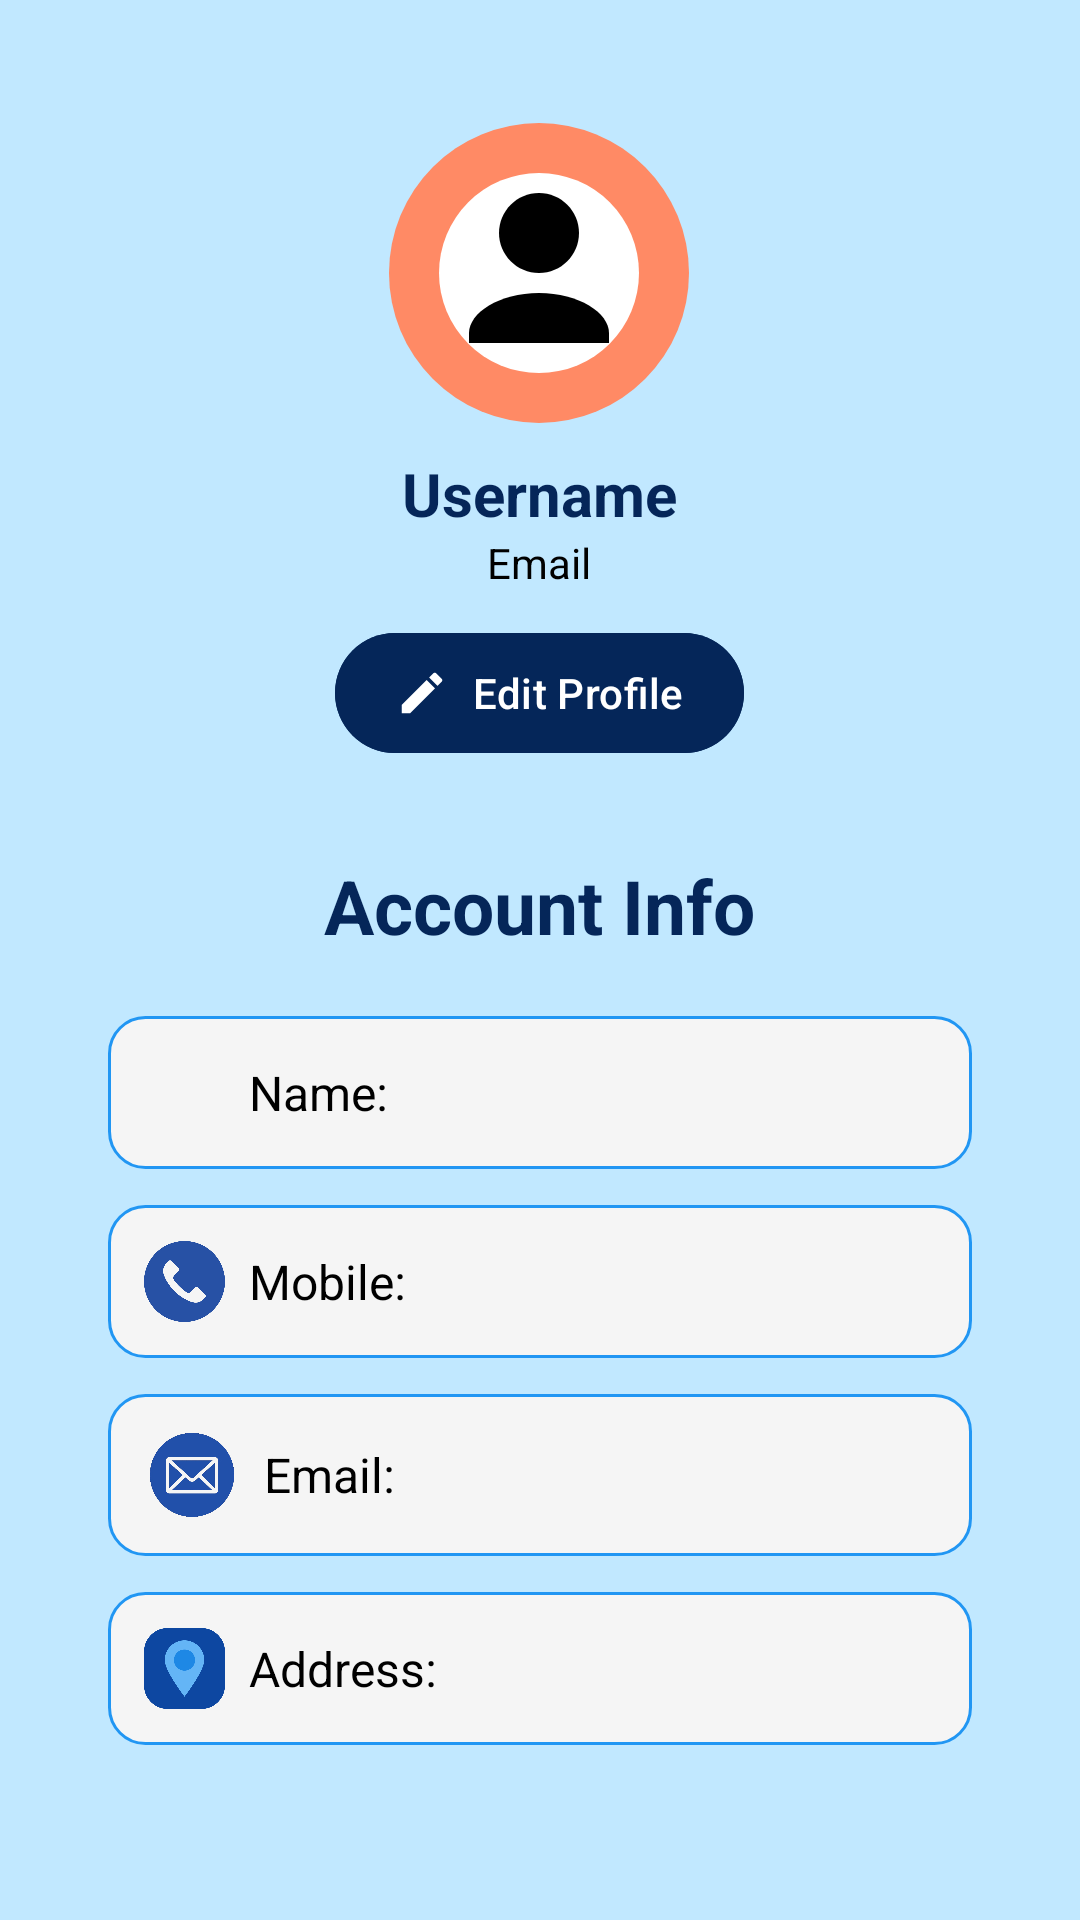

Icons on this 1080px×1920px Android screen, each with the point to tap as point (x, y):
location: point (184, 1668)
user profile: point (539, 273)
